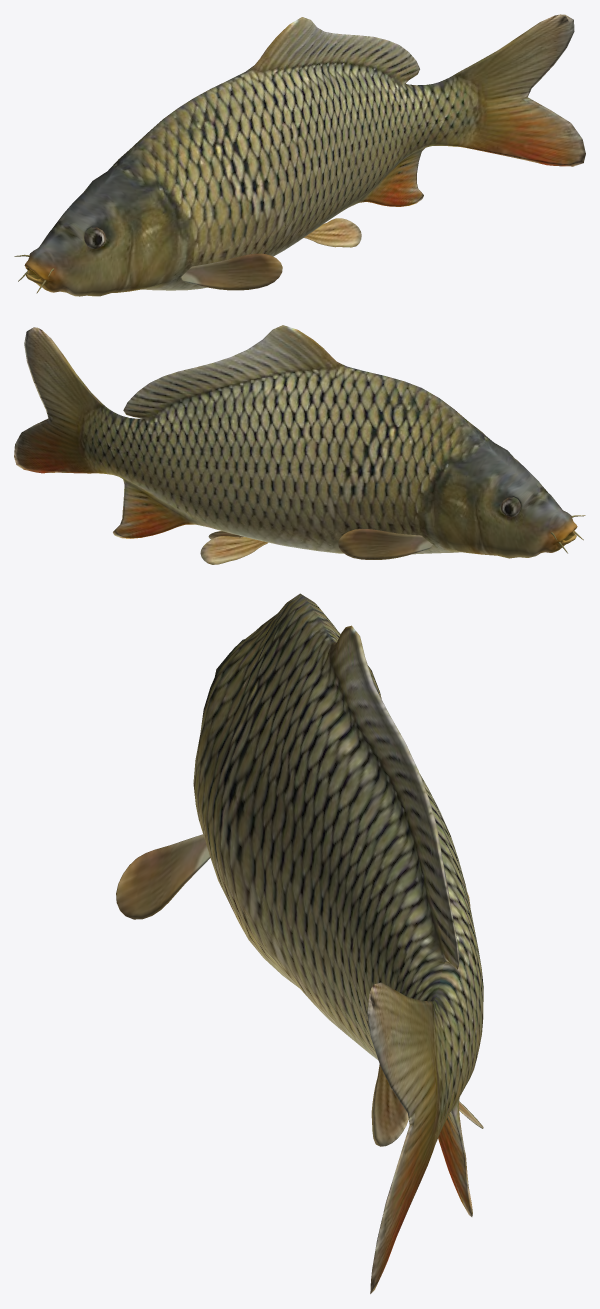
Rendered from animal_carp.glb.
3 renders of one model, top to bottom at view 1: azimuth 30°, elevation 25°; view 2: azimuth 150°, elevation 25°; view 3: azimuth 270°, elevation 25°, orthographic. The views are drawn at different scales.
Parts seen in each view (by area): view 1: animal_carp.glb; view 2: animal_carp.glb; view 3: animal_carp.glb.
Boxes of the visible parts, left/top/right/bottom form: animal_carp.glb: left=14, top=14, right=585, bottom=296; animal_carp.glb: left=14, top=325, right=585, bottom=564; animal_carp.glb: left=116, top=593, right=483, bottom=1293.
Bounding box in the file's own units: 0.201 × 0.0815 × 0.0593.
Materials: 1 (1 with a texture image).
